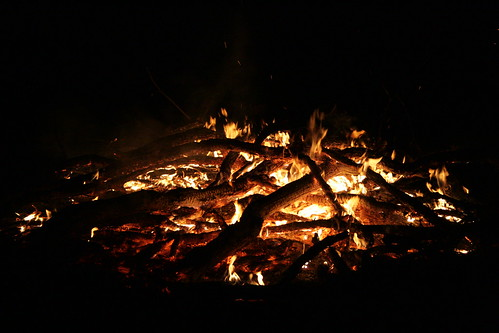fireplace: (49, 77, 451, 306)
